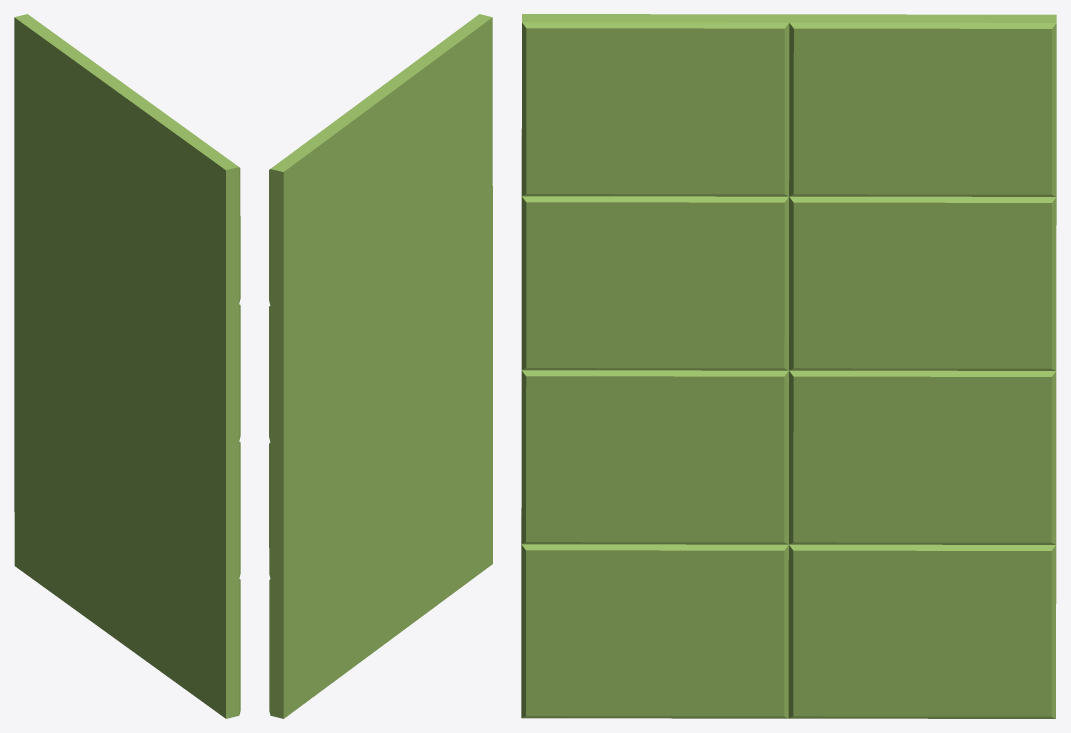
File: Wall_Panel.fbx
3 renders of one model, left to right at view 1: azimuth 30°, elevation 25°; view 2: azimuth 150°, elevation 25°; view 3: azimuth 270°, elevation 25°, orthographic. The views are drawn at different scales.
Parts seen in each view (by area): view 1: Panels; view 2: Panels; view 3: Panels.
Part boxes in pixels (left/top/right/bottom): Panels: left=14, top=14, right=240, bottom=718; Panels: left=269, top=14, right=492, bottom=718; Panels: left=521, top=14, right=1056, bottom=718.
Size of the model in its own units: 8.36 by 254 by 177.
